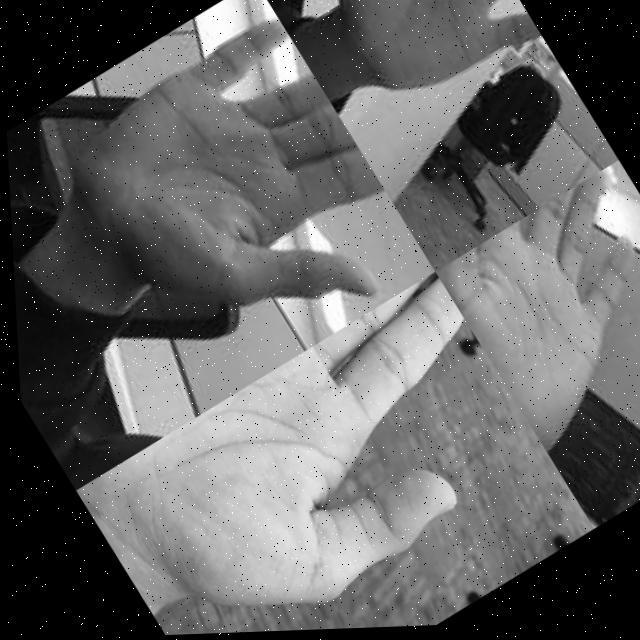no-gloves: (62, 272, 554, 638), (41, 1, 436, 411), (427, 165, 640, 464), (297, 0, 548, 133)
